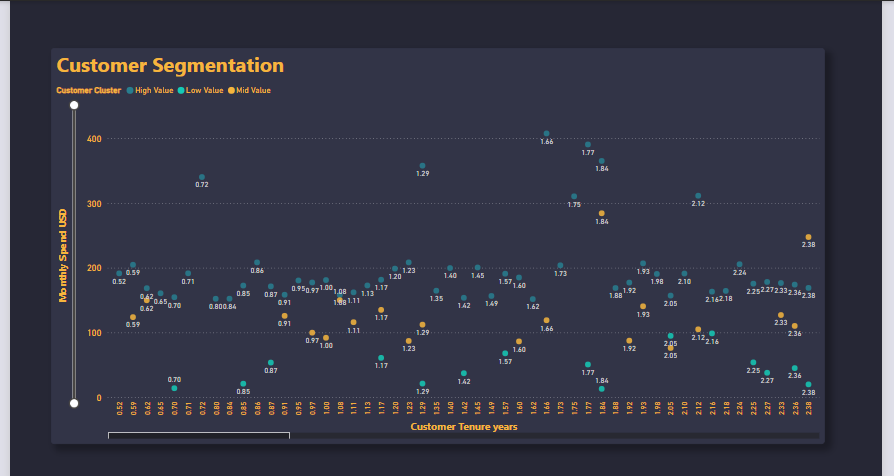

The page's visual inventory and layout, read from the dashboard file:
{"tool":"powerbi","page":{"name":"Customer Segmentation","canvas":[1280,720],"ordinal":2},"visuals":[{"type":"scatterChart","title":"Customer Segmentation","fields":{"X":["Sheet1.Customer_Tenure_Years"],"Y":["Sum(Sheet1.Monthly_Spend_USD)"],"Series":["Sheet1.Customer Cluster"]},"box":[60,69.2,1136.9,581.5],"z":0}]}

Visuals, with their boxes on the page's 1280x720 design canvas (x1, y1, x2, y2). These are canvas units, not pixel positions in the 894x476 screenshot, which may show the page scaled, cropped or inside an application window:
"Customer Segmentation" scatterChart: bbox(60, 69, 1197, 651)
